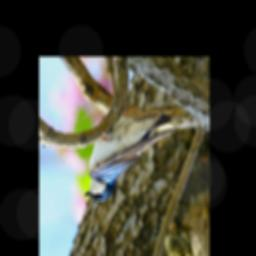Swallow: (84, 102, 181, 202)
